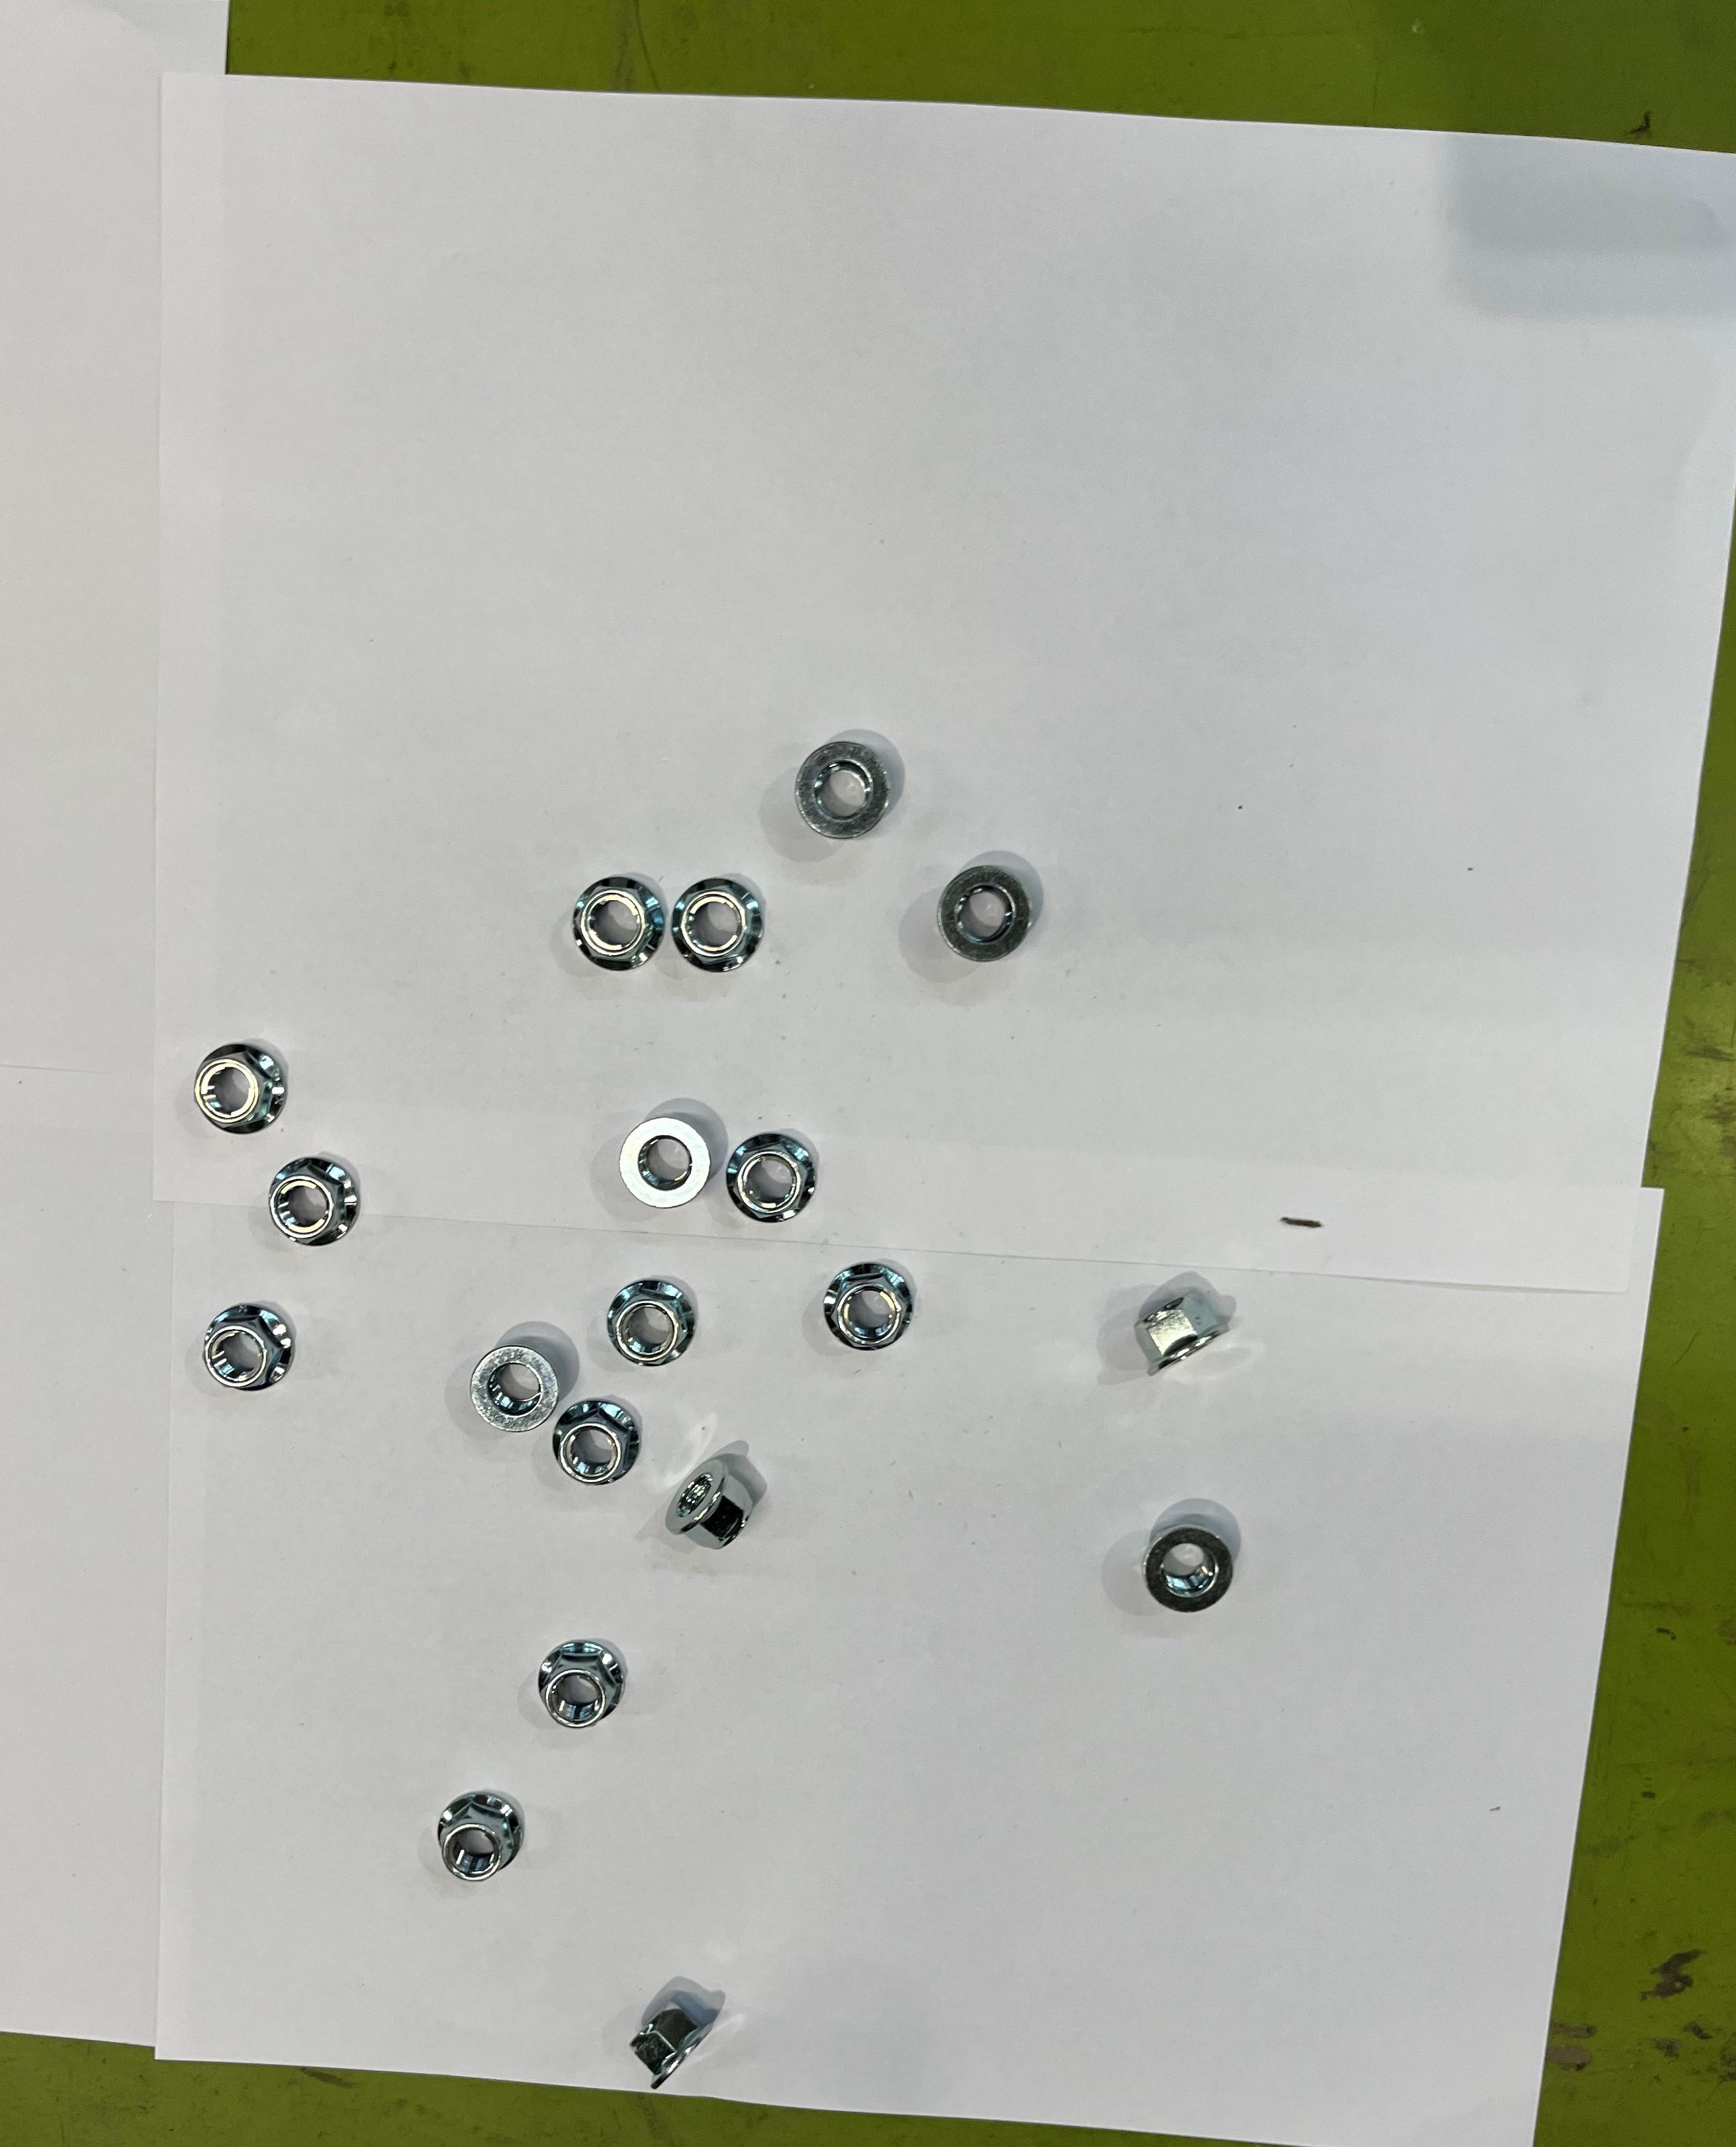Type B: (567, 872, 668, 974), (1127, 1286, 1236, 1380), (673, 870, 765, 976), (797, 740, 893, 841), (191, 1045, 289, 1141), (941, 859, 1033, 960), (262, 1155, 363, 1245), (730, 1127, 818, 1228), (622, 1116, 714, 1212), (1146, 1520, 1238, 1614), (602, 1277, 700, 1366), (438, 1787, 524, 1887), (204, 1302, 296, 1394), (818, 1261, 914, 1350), (632, 1995, 717, 2092), (468, 1346, 558, 1435), (670, 1461, 758, 1550), (551, 1398, 639, 1484), (539, 1642, 625, 1731)
